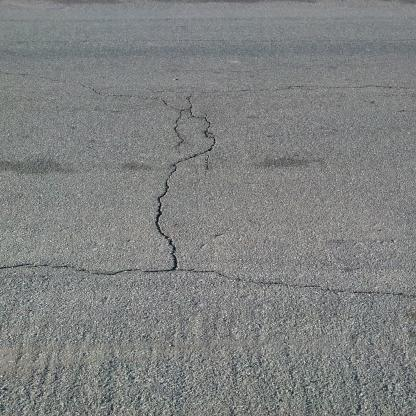Cracks: (0, 256, 416, 301), (142, 101, 227, 272)
